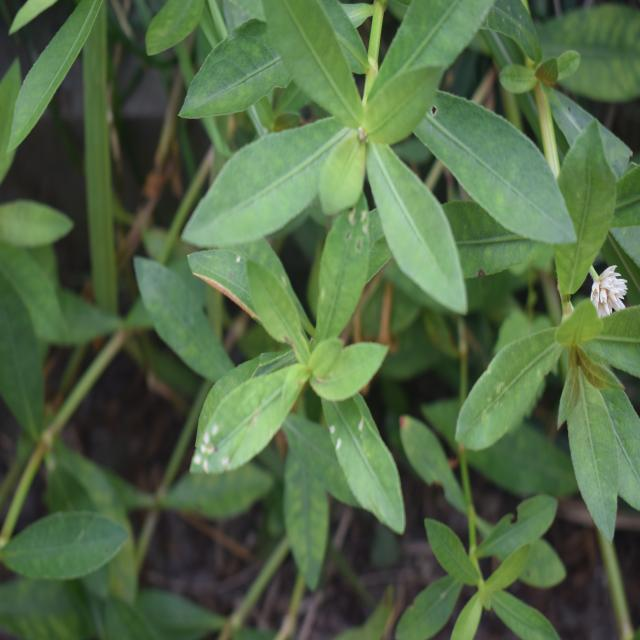Alligatorweed: (183, 0, 546, 310), (182, 216, 423, 527), (454, 127, 634, 534)
